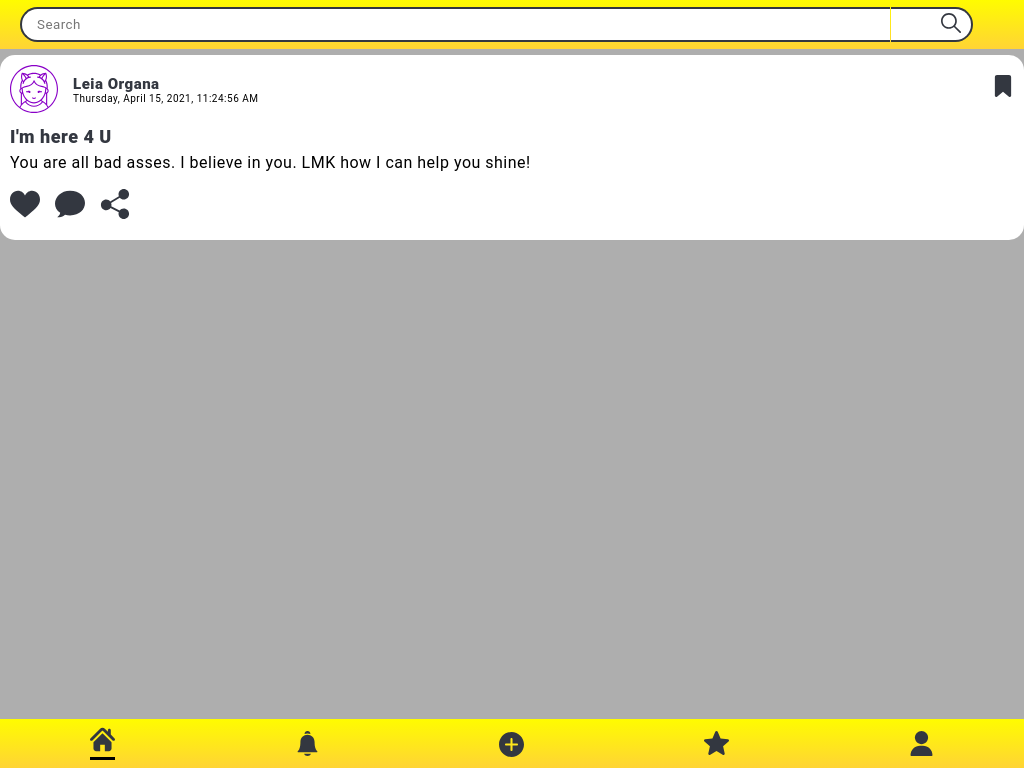
Scenario: Search Functionality › Should show all posts if no posts meet search criteria
In the field with test id "search-input": (455, 25) [20,7,890,42], type "thisdoesnotwork"
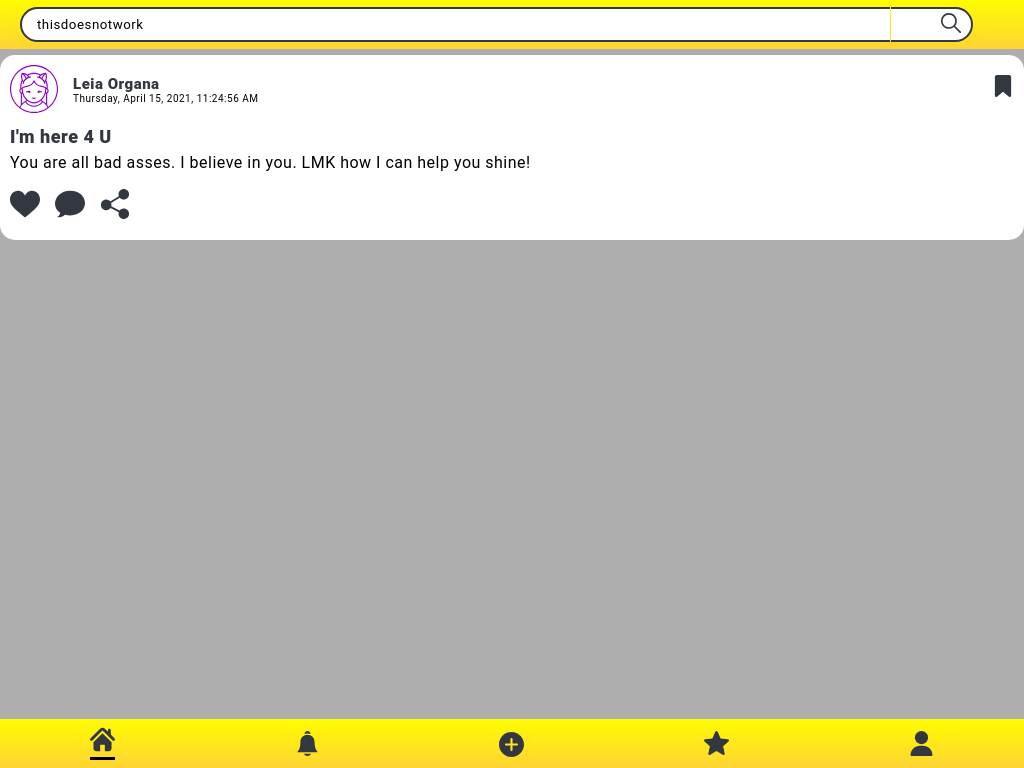
Click the button with test id "search-button": (932, 25) [891,7,973,42]
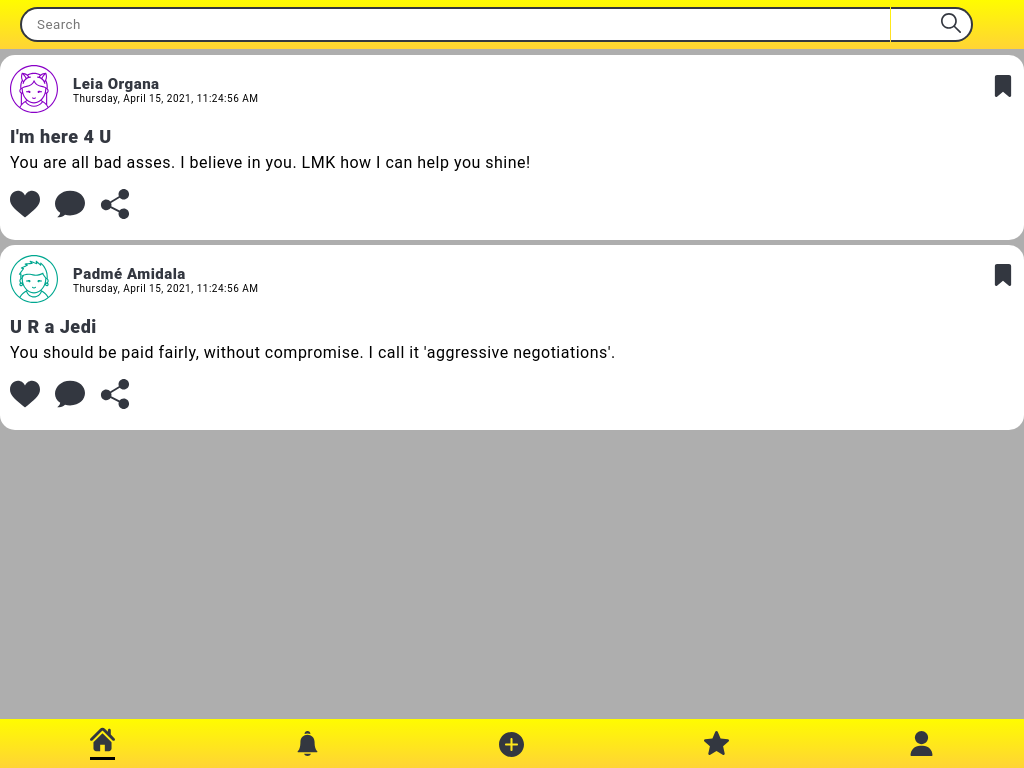
Now the heading "U R a Jedi" is shown, box [10,316,97,337]
